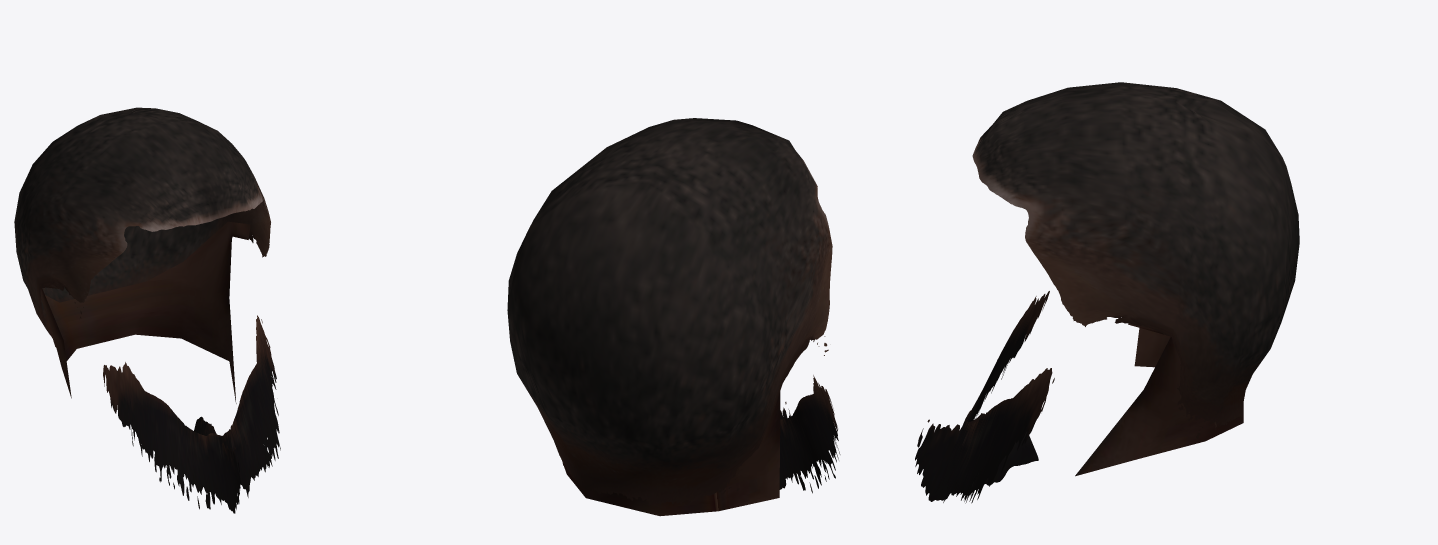
File: deu-rudiger.glb
3 views of the same model, side by side, from view 1: azimuth 30°, elevation 25°; view 2: azimuth 150°, elevation 25°; view 3: azimuth 270°, elevation 25° (orthographic). The views are drawn at different scales.
Parts seen in each view (by area): view 1: hair; view 2: hair; view 3: hair.
Boxes of the visible parts, x1,y1,x2,y2 form: hair: [14, 107, 280, 513]; hair: [507, 118, 840, 516]; hair: [915, 82, 1299, 503].
Bounding box in the file's own units: 0.2336 × 0.2973 × 0.2883.
2 materials, 2 textured.
